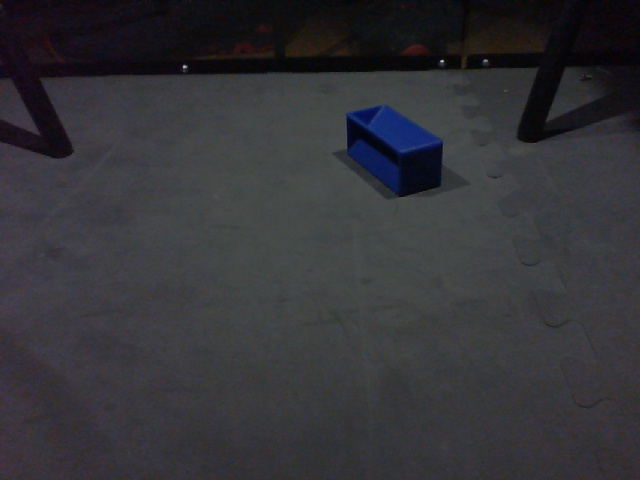BlueSample: (344, 102, 449, 199)
